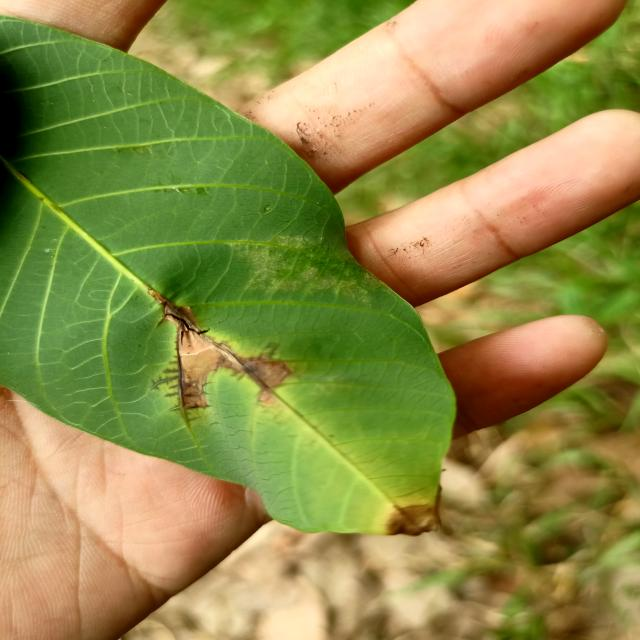Corynespora: (150, 338, 207, 429)
Leaf-Blight: (152, 294, 240, 380), (238, 357, 292, 405), (388, 504, 441, 537)
